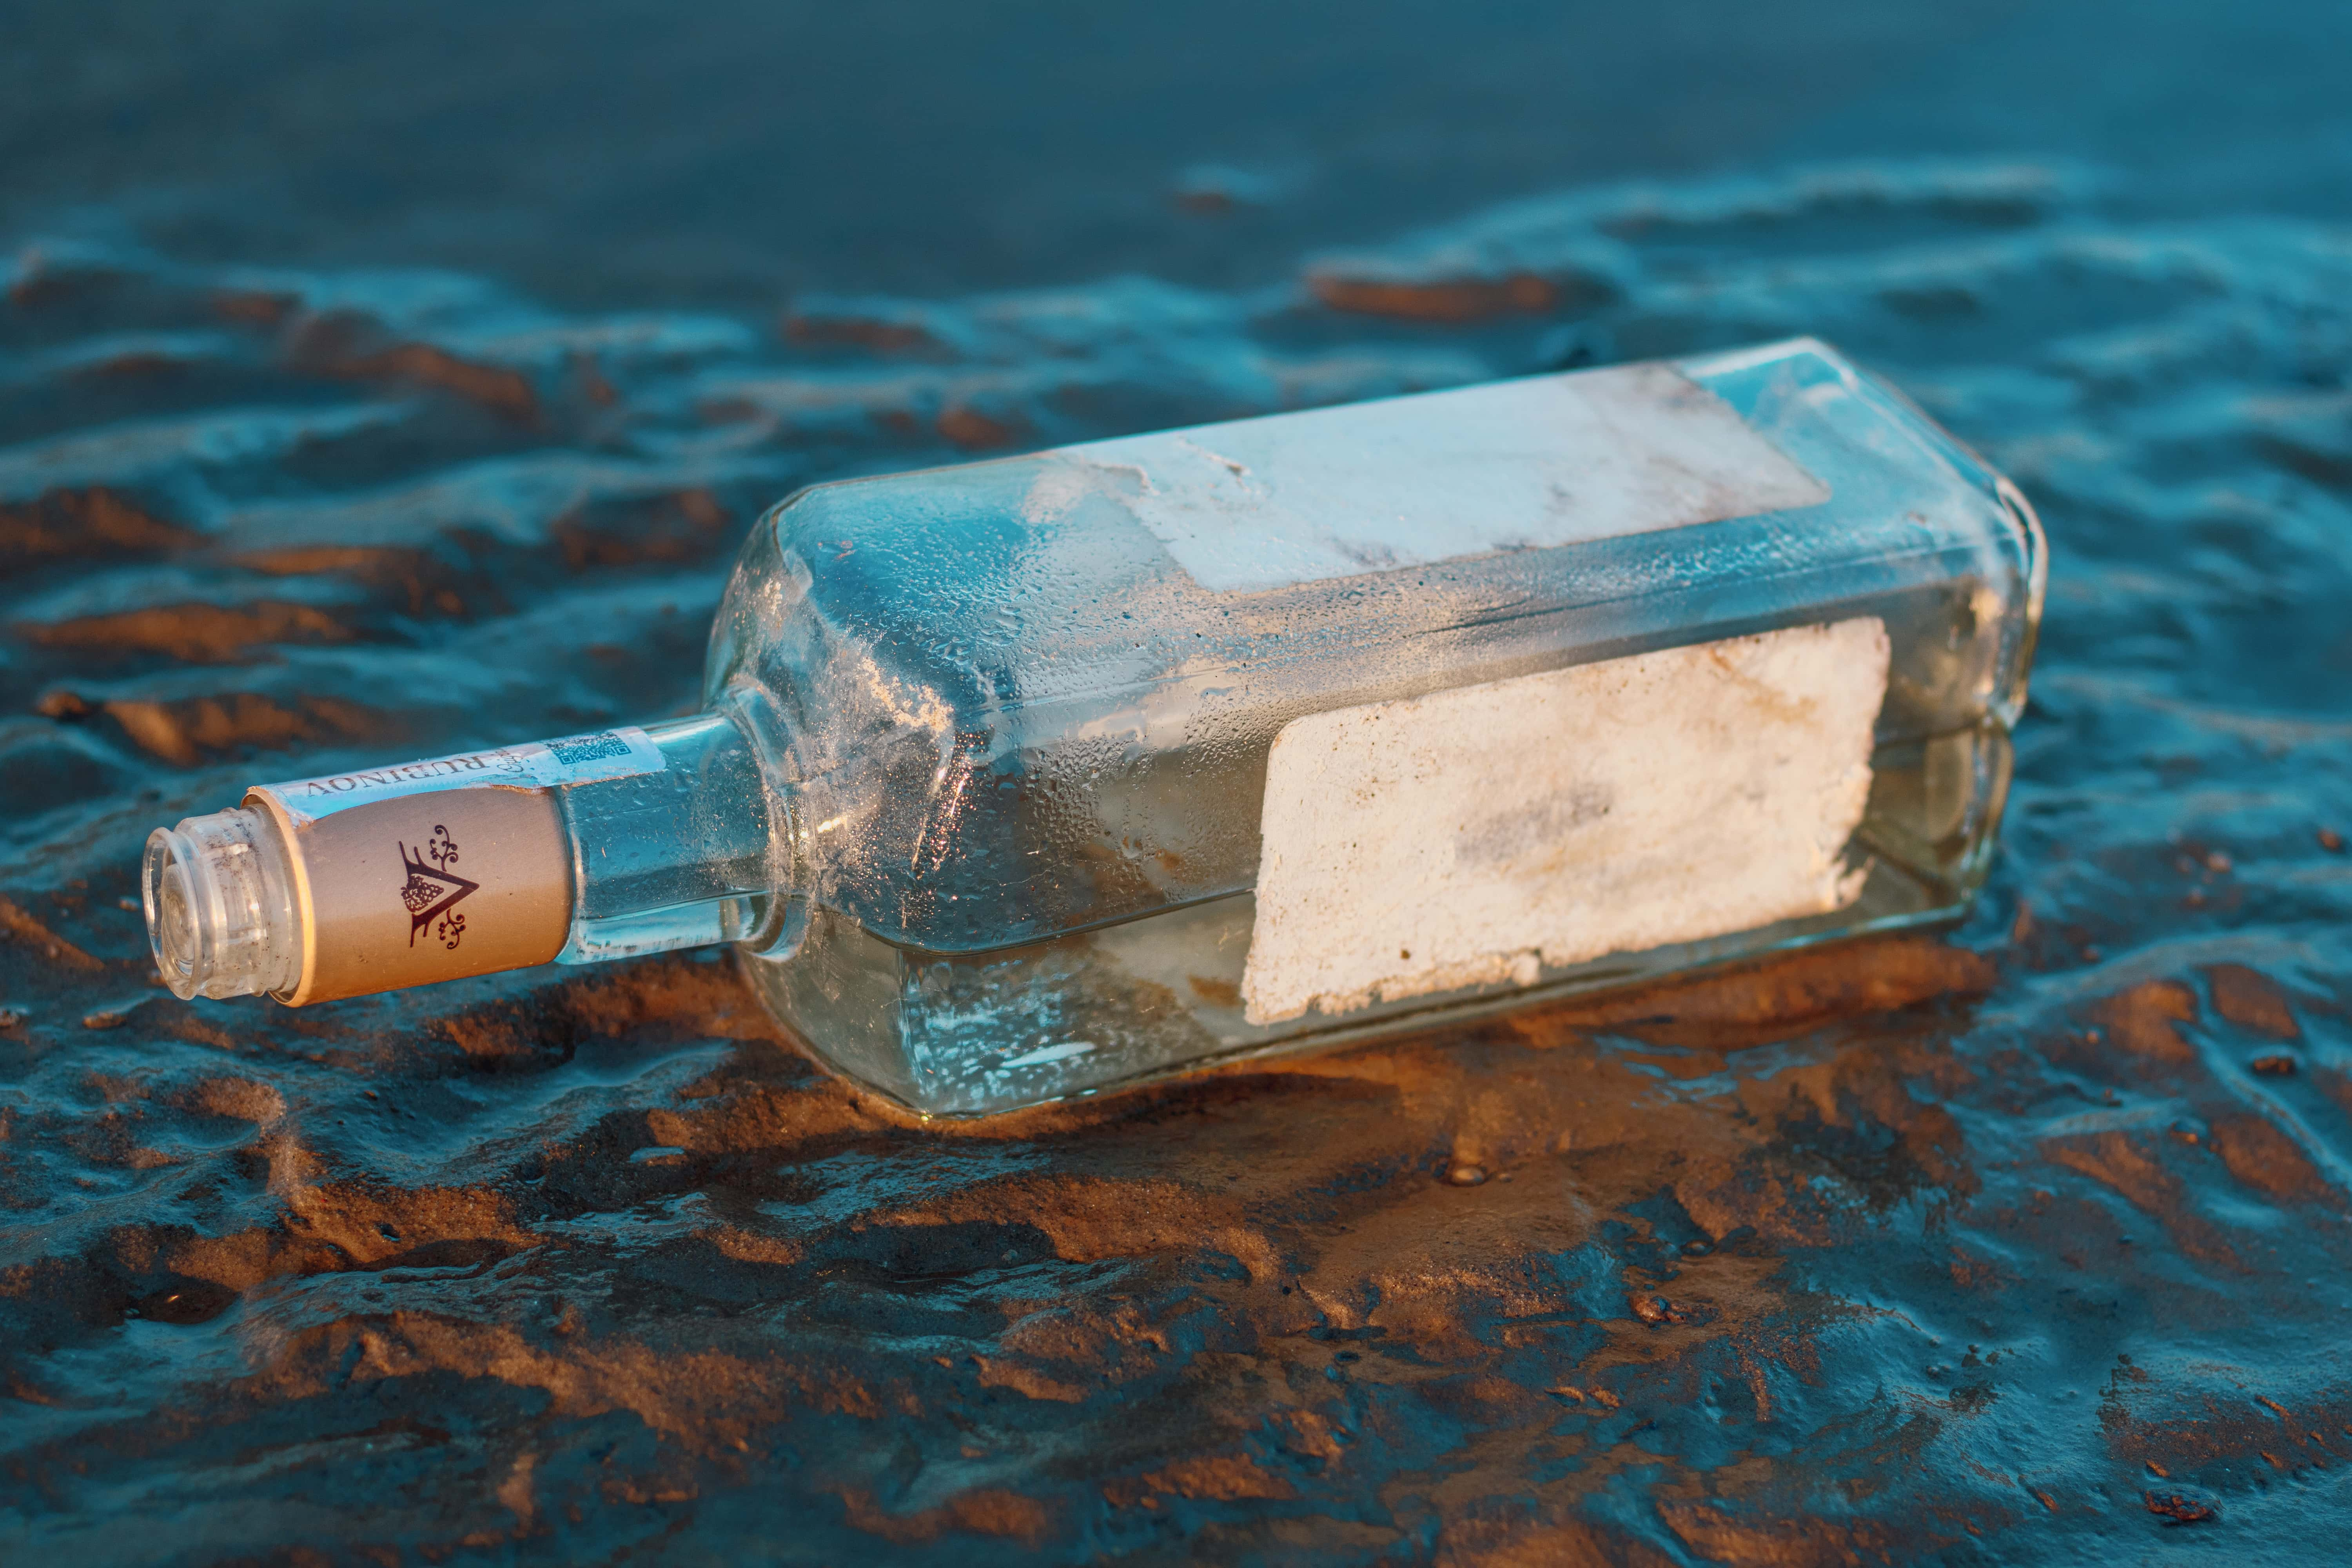glass_bottle: (119, 325, 2103, 1164)
